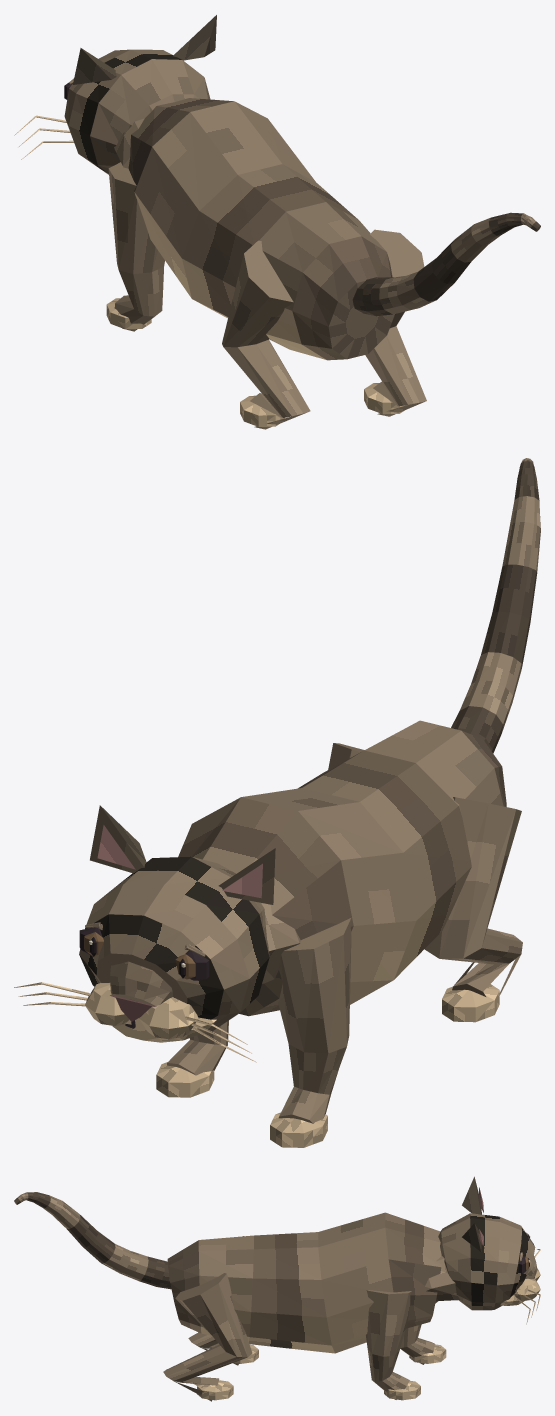
File: mon_cat_tabby_kitten.glb
3 renders of one model, top to bottom at view 1: azimuth 30°, elevation 25°; view 2: azimuth 150°, elevation 25°; view 3: azimuth 270°, elevation 25°, orthographic. The views are drawn at different scales.
Parts seen in each view (by area): view 1: closed_body; view 2: closed_body; view 3: closed_body.
Boxes of the visible parts, x1,y1,x2,y2 form: closed_body: (14,15,540,429); closed_body: (14,458,540,1147); closed_body: (14,1176,540,1401).
Size of the model in its own units: 0.097 by 0.1525 by 0.3477.
Materials: 1 (1 with a texture image).
